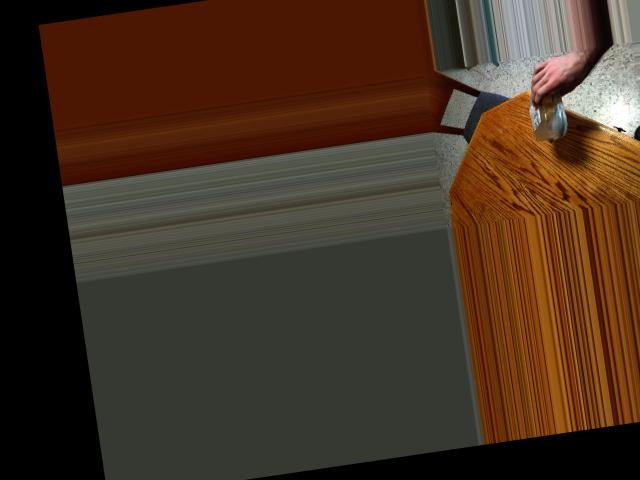cheese: (515, 76, 583, 149)
